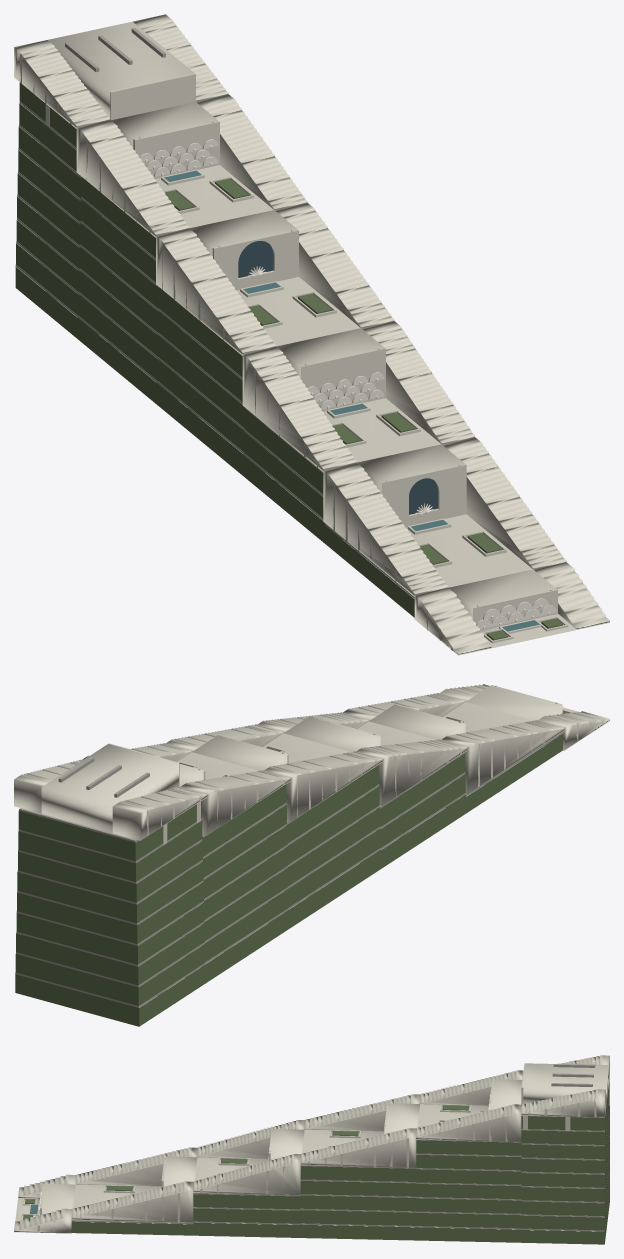
Rendered from yerevan-cascade-far.glb.
3 views of the same model, one above another, from view 1: azimuth 30°, elevation 25°; view 2: azimuth 150°, elevation 25°; view 3: azimuth 270°, elevation 25° (orthographic). The views are drawn at different scales.
Parts seen in each view (by area): view 1: yerevan-cascade-0-stone, yerevan-cascade-0-garden, yerevan-cascade-0-concrete, yerevan-cascade-0-relief, yerevan-cascade-0-glass, yerevan-cascade-0-water; view 2: yerevan-cascade-0-garden, yerevan-cascade-0-stone, yerevan-cascade-0-concrete; view 3: yerevan-cascade-0-garden, yerevan-cascade-0-stone, yerevan-cascade-0-concrete.
Part boxes in pixels (x1,y1,x2,y2): yerevan-cascade-0-stone: [14, 14, 609, 655]; yerevan-cascade-0-garden: [15, 82, 562, 640]; yerevan-cascade-0-concrete: [15, 28, 463, 598]; yerevan-cascade-0-relief: [139, 139, 557, 629]; yerevan-cascade-0-glass: [238, 241, 437, 514]; yerevan-cascade-0-water: [164, 170, 539, 631]; yerevan-cascade-0-garden: [15, 711, 568, 1026]; yerevan-cascade-0-stone: [14, 684, 609, 995]; yerevan-cascade-0-concrete: [15, 732, 562, 1007]; yerevan-cascade-0-garden: [23, 1080, 609, 1244]; yerevan-cascade-0-stone: [14, 1055, 609, 1233]; yerevan-cascade-0-concrete: [71, 1064, 609, 1231].
Size of the model in its own units: 64.62 by 79.2 by 289.
